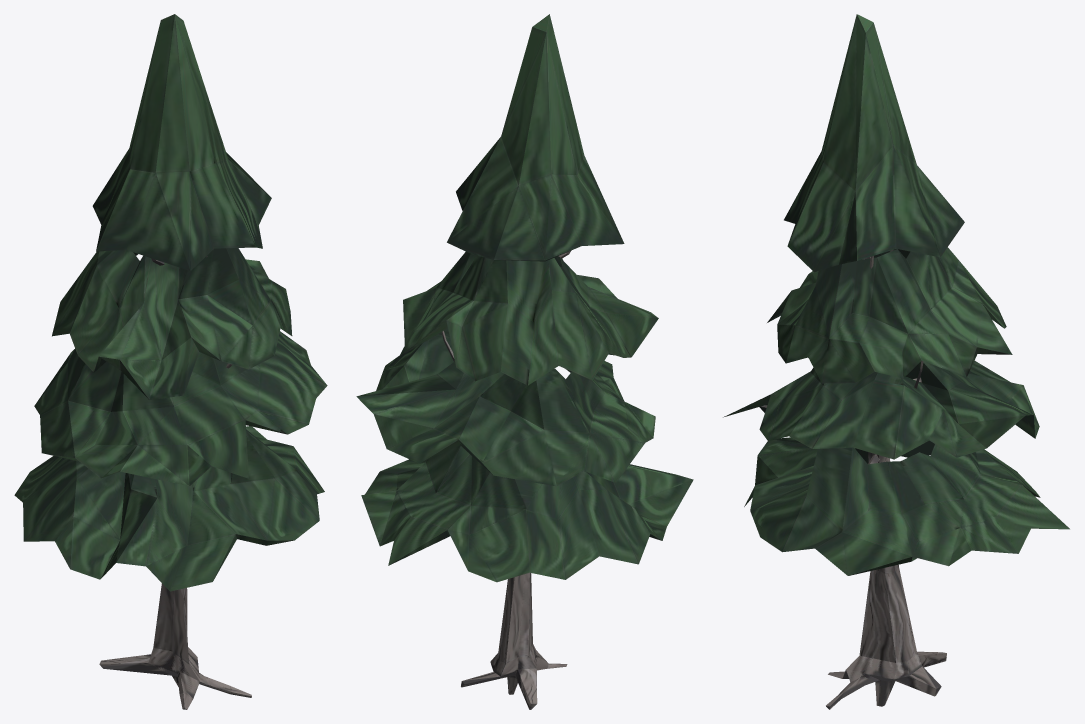
File: spruce_tree_-_low_poly.glb
3 views of the same model, side by side, from view 1: azimuth 30°, elevation 25°; view 2: azimuth 150°, elevation 25°; view 3: azimuth 270°, elevation 25° (orthographic). The views are drawn at different scales.
Visible parts, largest first — view 1: tree; view 2: tree; view 3: tree.
Part boxes in pixels (x1=…): tree: x1=14, y1=14, x2=327, y2=709; tree: x1=356, y1=14, x2=693, y2=709; tree: x1=723, y1=14, x2=1069, y2=709.
Bounding box in the file's own units: 402 × 989 × 460.
1 material, 1 textured.
